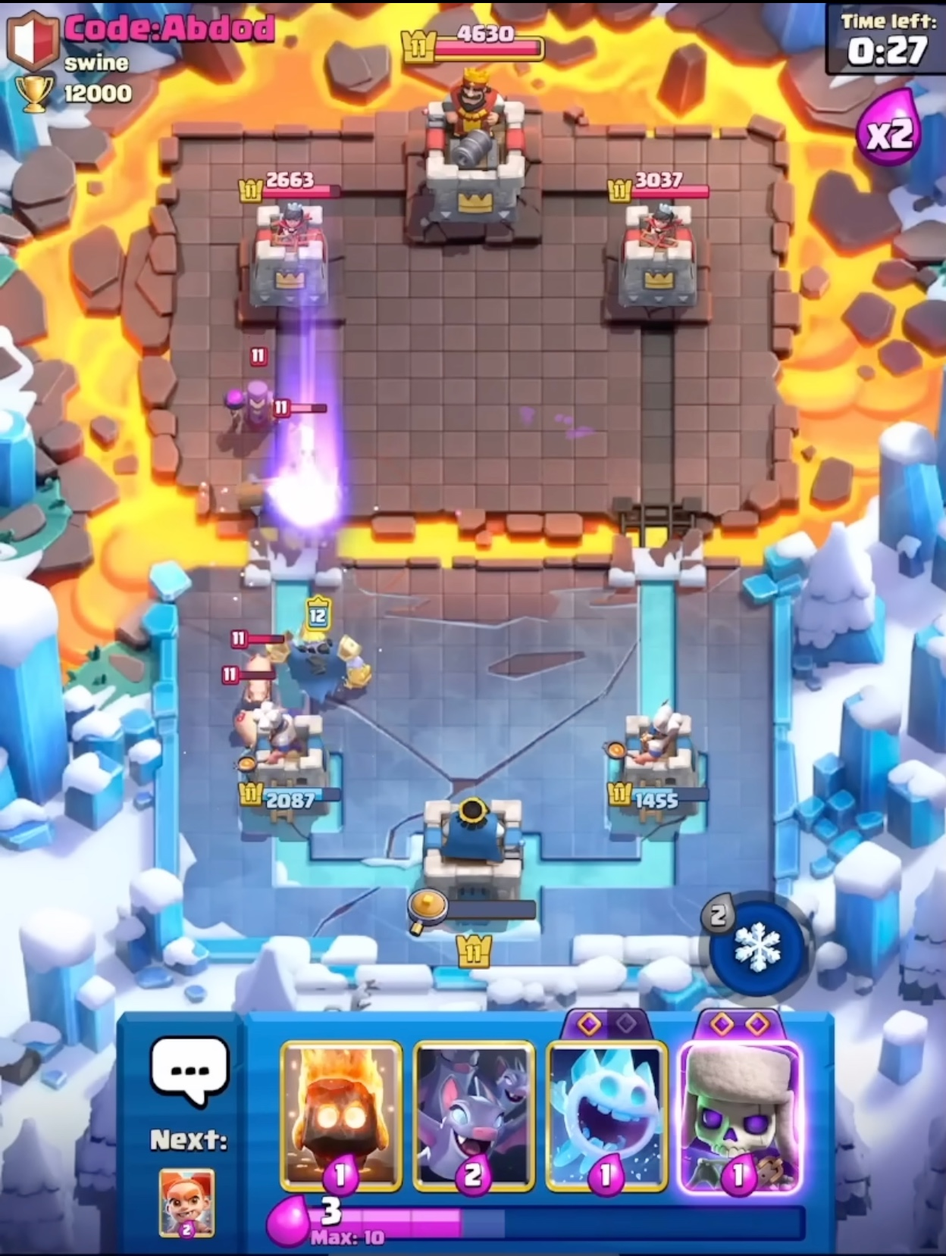hero-ice-golem: (272, 594, 376, 709)
